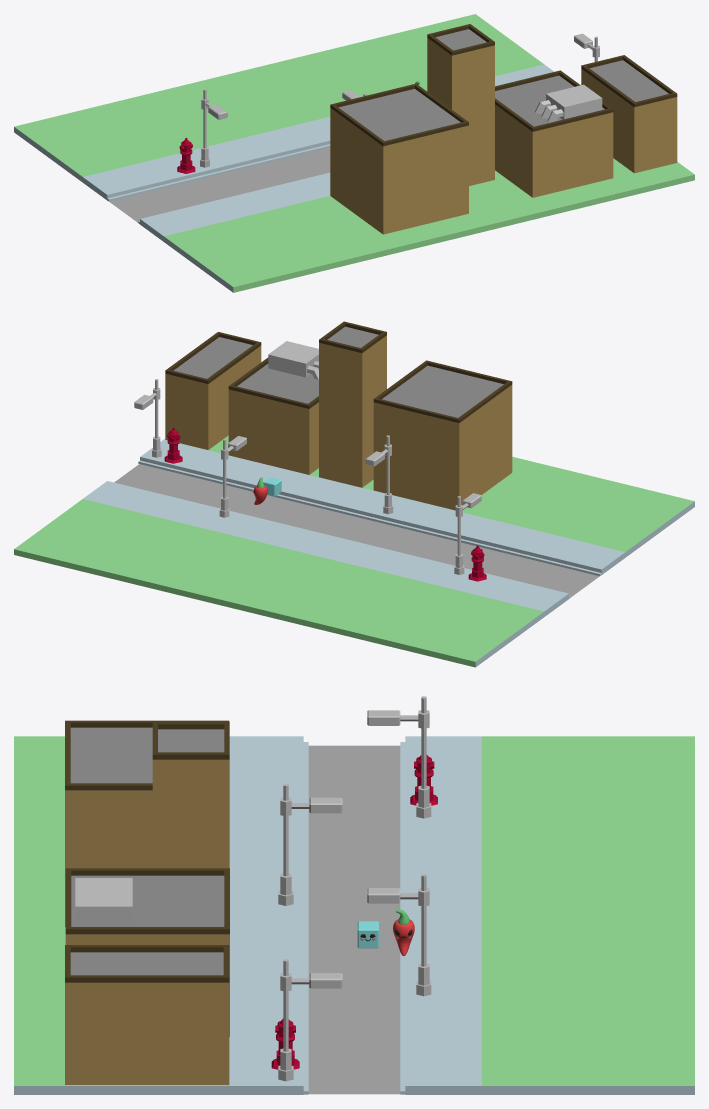
Rendered from City.fbx.
3 renders of one model, top to bottom at view 1: azimuth 30°, elevation 25°; view 2: azimuth 150°, elevation 25°; view 3: azimuth 270°, elevation 25°, orthographic. The views are drawn at different scales.
Visible parts, largest first — view 1: polySurface2, pCube9, Building4, Building3, Building2, Building1, pPlane2, LampPost3, FireHydrant; view 2: polySurface2, pCube9, Building4, pPlane2, Building3, Building1, Building2, LampPost3, LampPost5, LampPost1, LampPost; view 3: polySurface2, pCube9, pPlane2, Building2, Building4, Building3, Building1, LampPost5, LampPost3, LampPost1, LampPost, FireHydrant (+1 smaller).
Part boxes in pixels (<box>): polySurface2: <box>14,14,554,201</box>; pCube9: <box>138,158,694,292</box>; Building4: <box>330,83,468,234</box>; Building3: <box>495,70,613,197</box>; Building2: <box>581,55,677,173</box>; Building1: <box>427,24,494,185</box>; pPlane2: <box>109,148,330,222</box>; LampPost3: <box>200,89,227,167</box>; FireHydrant: <box>177,137,195,173</box>; polySurface2: <box>14,481,570,667</box>; pCube9: <box>138,435,694,576</box>; Building4: <box>373,360,512,510</box>; pPlane2: <box>114,464,599,597</box>; Building3: <box>228,341,318,474</box>; Building1: <box>319,321,386,487</box>; Building2: <box>165,332,261,449</box>; LampPost3: <box>454,493,481,574</box>; LampPost5: <box>365,435,393,514</box>; LampPost1: <box>219,436,246,517</box>; LampPost: <box>134,379,161,457</box>; polySurface2: <box>400,736,694,1094</box>; pCube9: <box>14,736,308,1094</box>; pPlane2: <box>308,745,400,1094</box>; Building2: <box>65,945,229,1084</box>; Building4: <box>65,720,229,927</box>; Building3: <box>65,868,229,1036</box>; Building1: <box>152,722,229,868</box>; LampPost5: <box>278,783,342,905</box>; LampPost3: <box>367,696,431,818</box>; LampPost1: <box>367,874,431,996</box>; LampPost: <box>278,959,342,1081</box>; FireHydrant: <box>410,754,437,805</box>.
Size of the model in its own units: 76.11 by 22.65 by 62.67.
